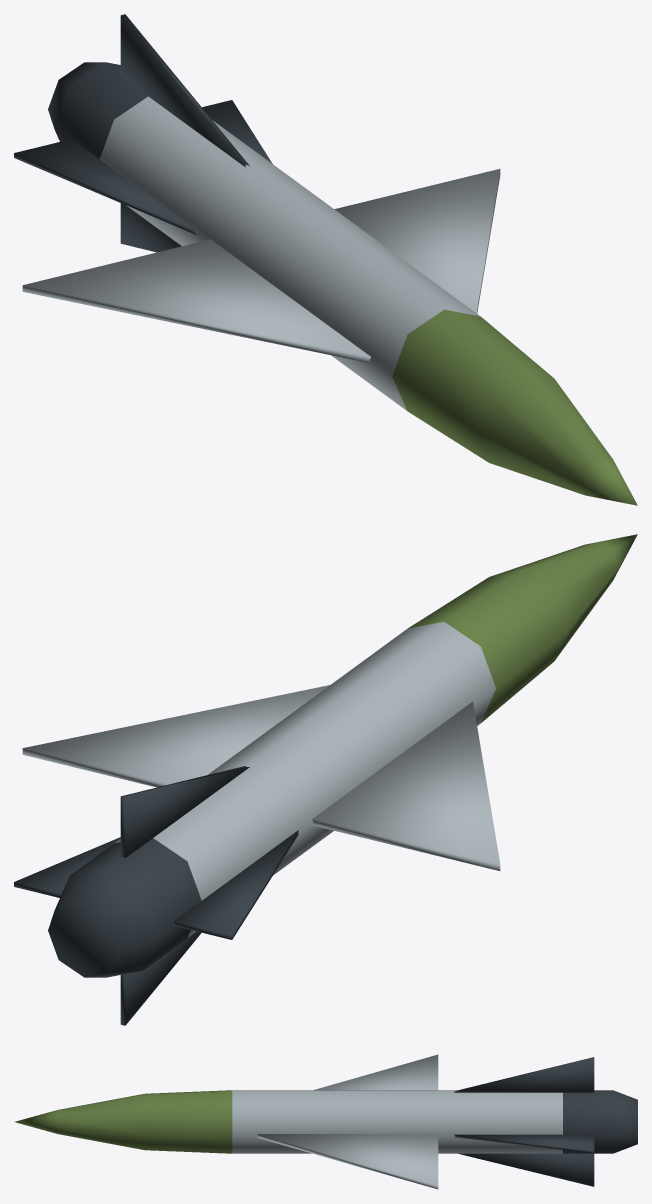
File: ammo_missile_cruise_projectile_game.glb
3 views of the same model, one above another, from view 1: azimuth 30°, elevation 25°; view 2: azimuth 150°, elevation 25°; view 3: azimuth 270°, elevation 25° (orthographic). The views are drawn at different scales.
Parts seen in each view (by area): view 1: AMMO_MESH.060; view 2: AMMO_MESH.060; view 3: AMMO_MESH.060.
Boxes of the visible parts, box(x1,y1,x2,y2) form: AMMO_MESH.060: box(14, 14, 637, 505); AMMO_MESH.060: box(14, 534, 637, 1025); AMMO_MESH.060: box(15, 1054, 637, 1189).
Bounding box in the file's own units: 2.39 × 1.09 × 4.8.
